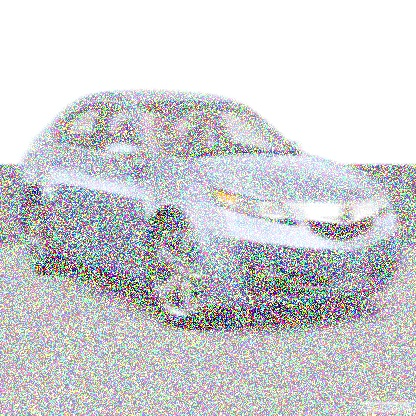Vehicle: (9, 73, 408, 345)
